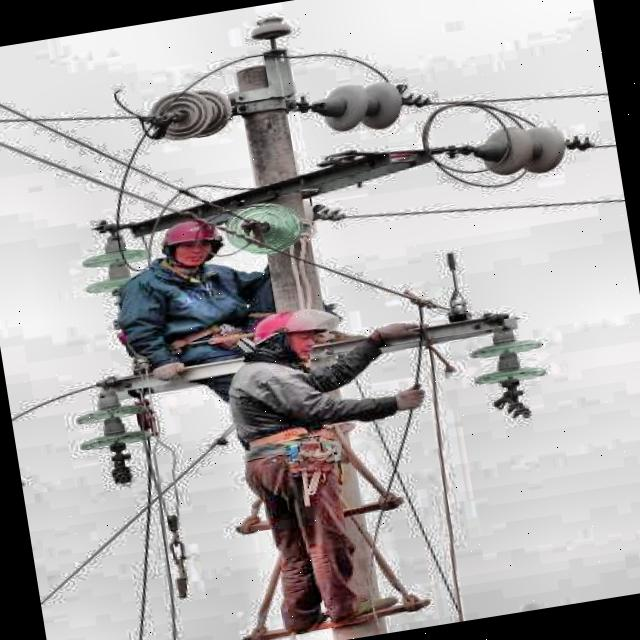helmet: (250, 307, 328, 363), (155, 216, 224, 268)
